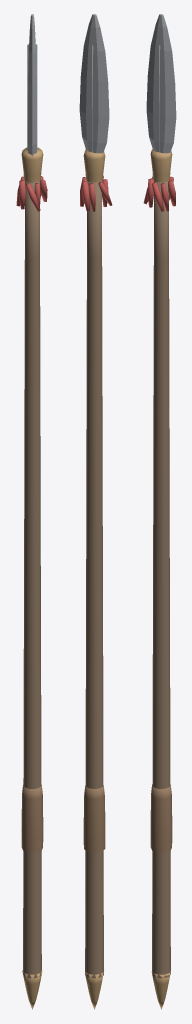
The model's file is wpn_spear.glb.
The picture shows the model from 3 angles, left to right: view 1: azimuth 90°, elevation 25°; view 2: azimuth 150°, elevation 25°; view 3: azimuth 330°, elevation 25°; orthographic projection.
Parts seen in each view (by area): view 1: wpn_spear; view 2: wpn_spear; view 3: wpn_spear.
Part boxes in pixels (x1,y1,x2,y2): wpn_spear: (16, 14, 47, 1009); wpn_spear: (79, 14, 112, 1009); wpn_spear: (143, 14, 176, 1009).
Bounding box in the file's own units: 0.072 × 2.29 × 0.0649.
